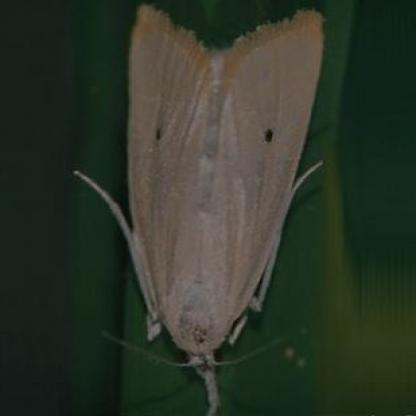stem-borer: (70, 0, 326, 416)
